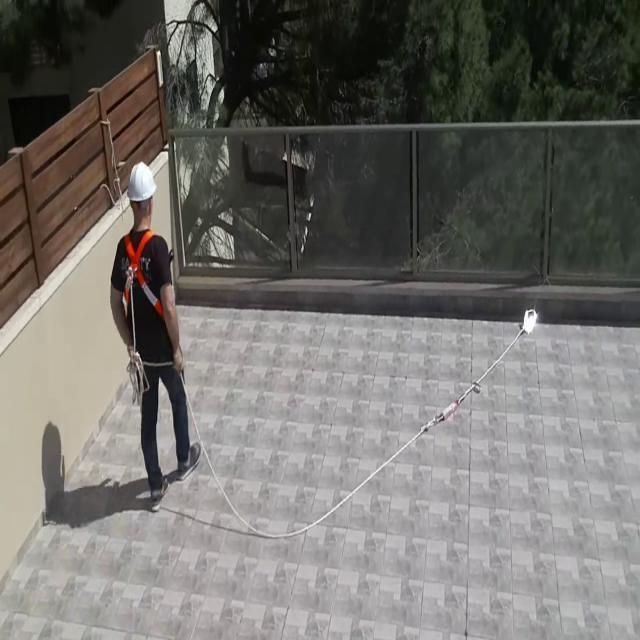Harness: (204, 310, 539, 540), (120, 230, 163, 316)
